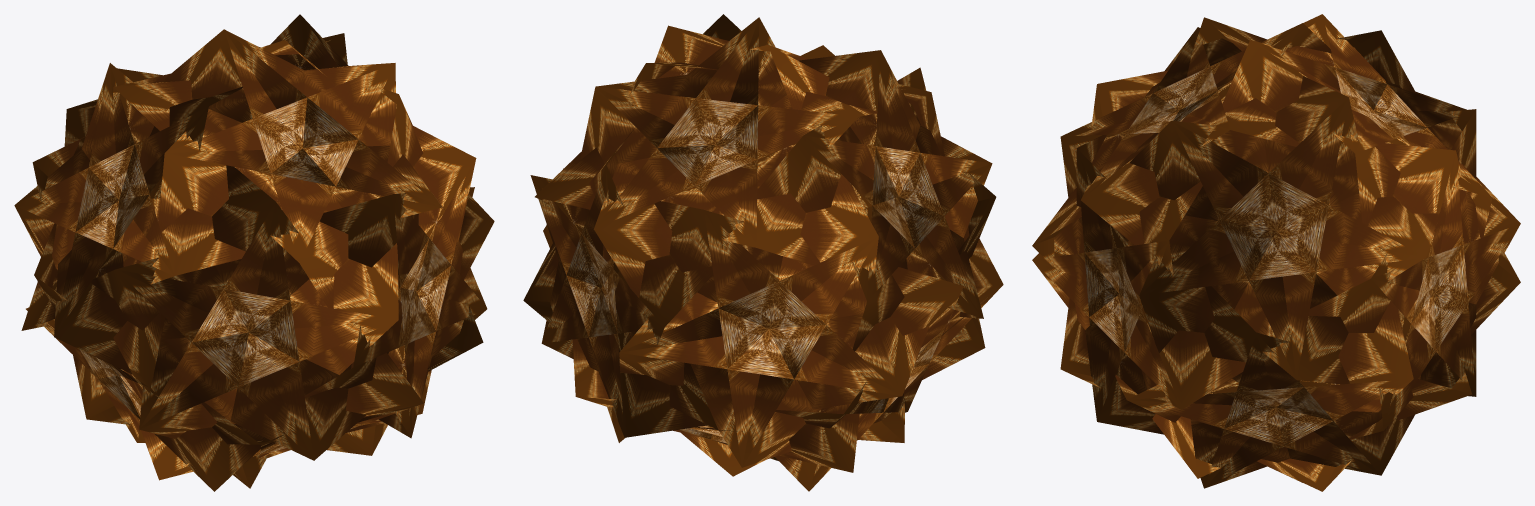
File: 20InvertedSnubDodecadodecahedron.gltf
3 renders of one model, left to right at view 1: azimuth 30°, elevation 25°; view 2: azimuth 150°, elevation 25°; view 3: azimuth 270°, elevation 25°, orthographic.
Visible parts, largest first — view 1: 16InvertedSnubDodecadodecahedron; view 2: 16InvertedSnubDodecadodecahedron; view 3: 16InvertedSnubDodecadodecahedron.
Boxes of the visible parts, <box> form: 16InvertedSnubDodecadodecahedron: <box>14,14,494,491</box>; 16InvertedSnubDodecadodecahedron: <box>523,14,1003,491</box>; 16InvertedSnubDodecadodecahedron: <box>1032,14,1520,491</box>.
Bounding box in the file's own units: 1.69 × 1.69 × 1.69.
Materials: 1 (1 with a texture image).
